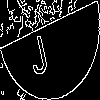J: (25, 25, 50, 78)
